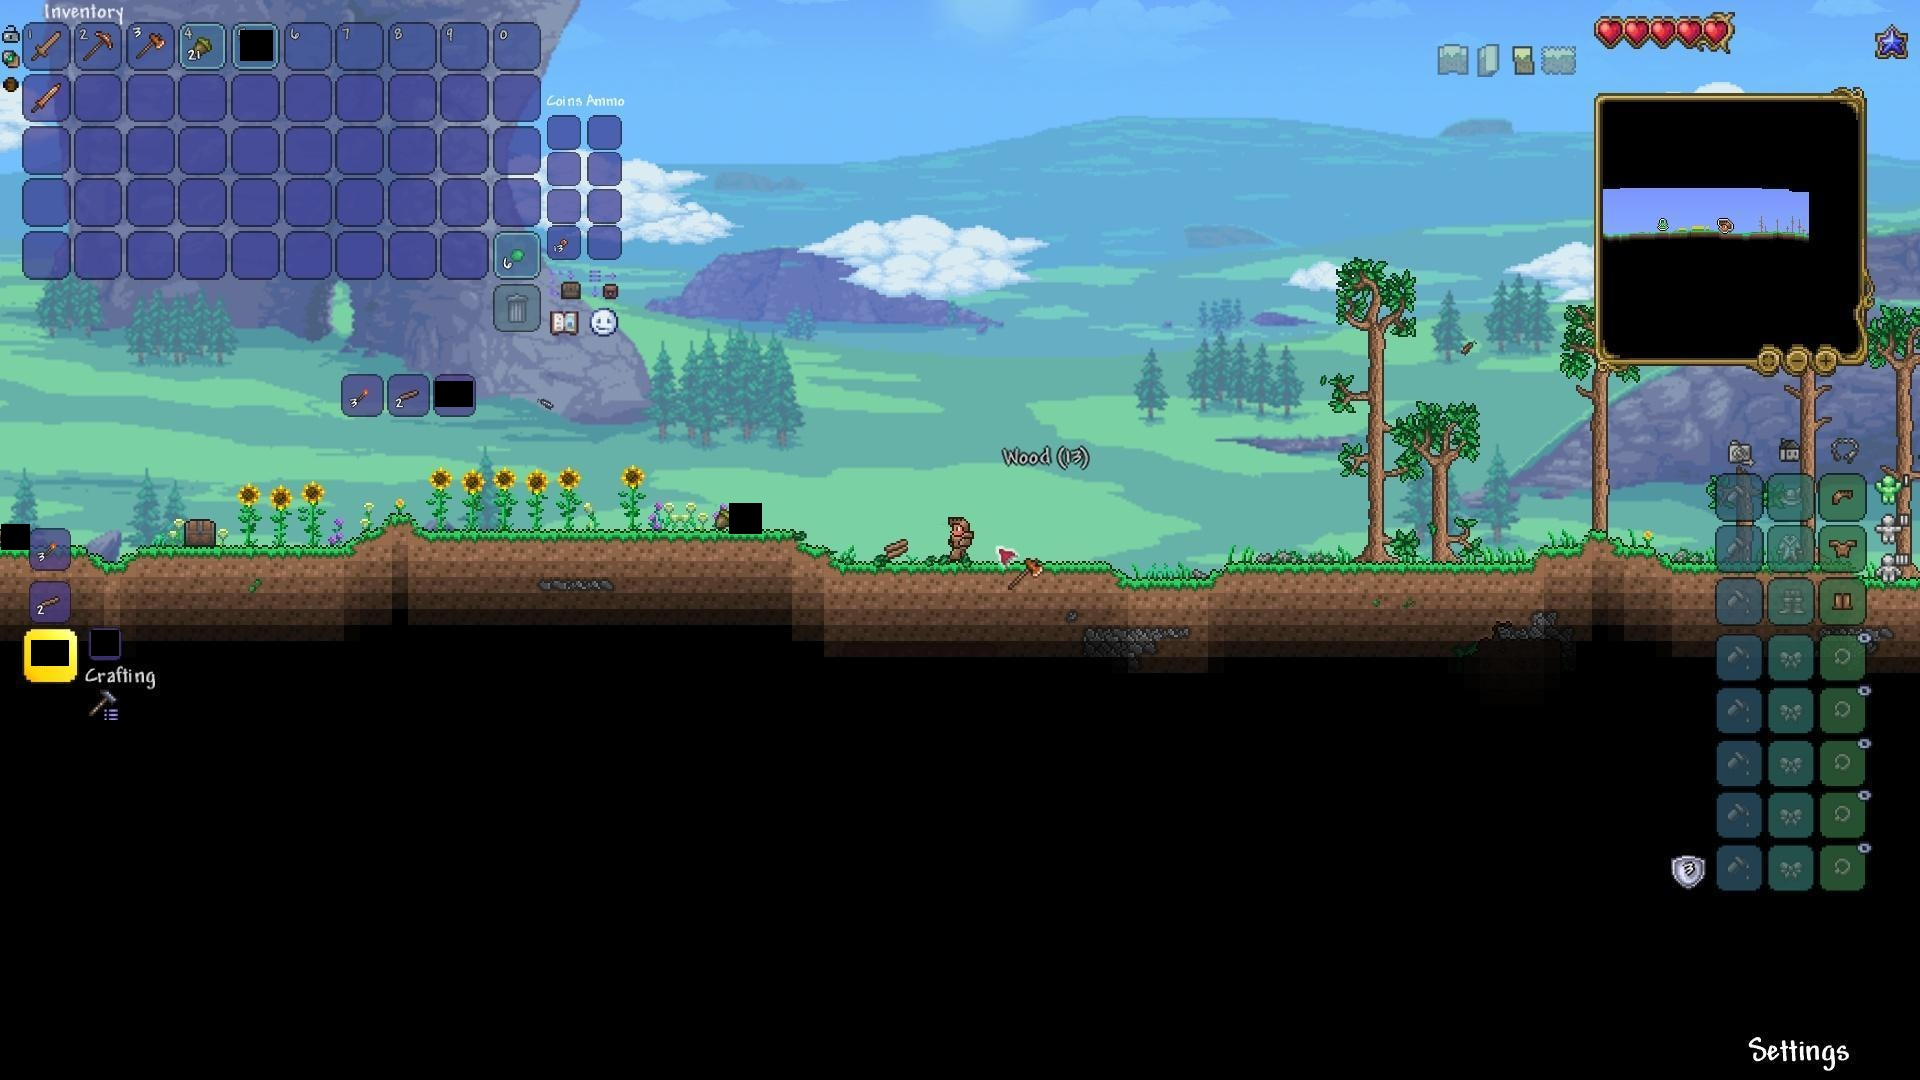breastplate: (1829, 537, 1859, 558)
helmet: (1828, 483, 1859, 512)
legs: (1832, 588, 1855, 615)
wood: (878, 535, 910, 566)
